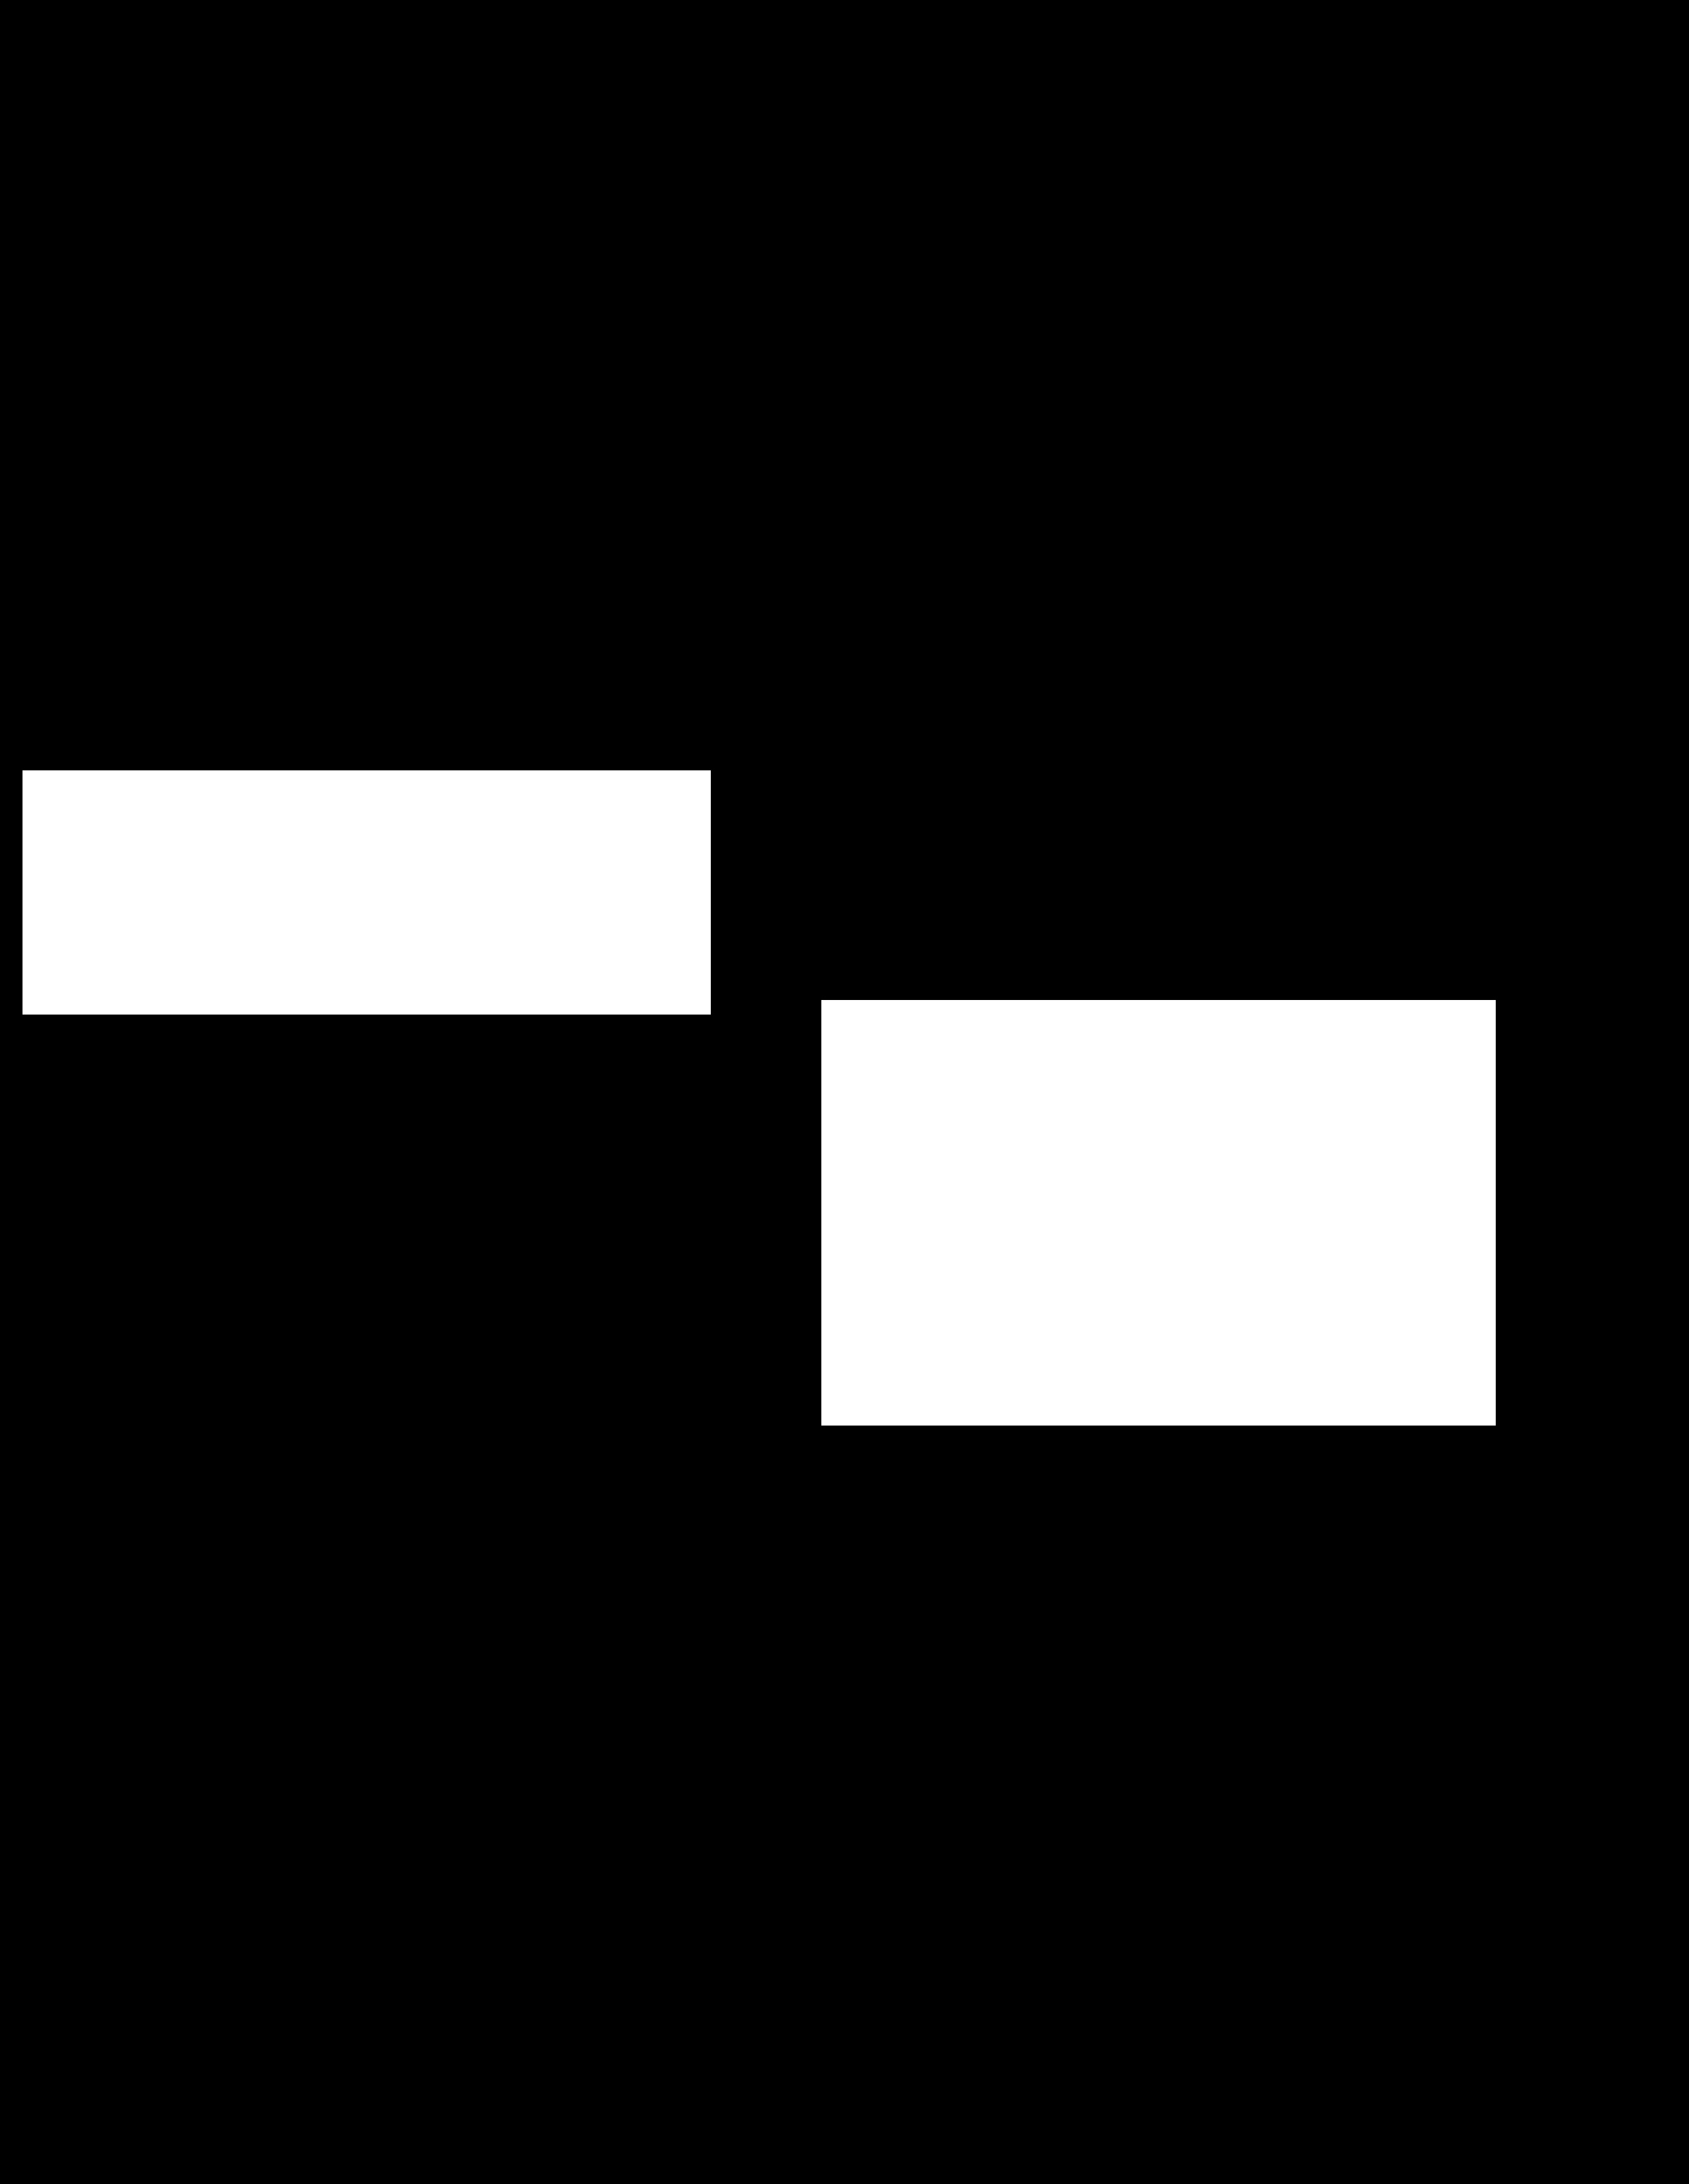table: (821, 1000, 1496, 1425), (23, 771, 711, 1014)
